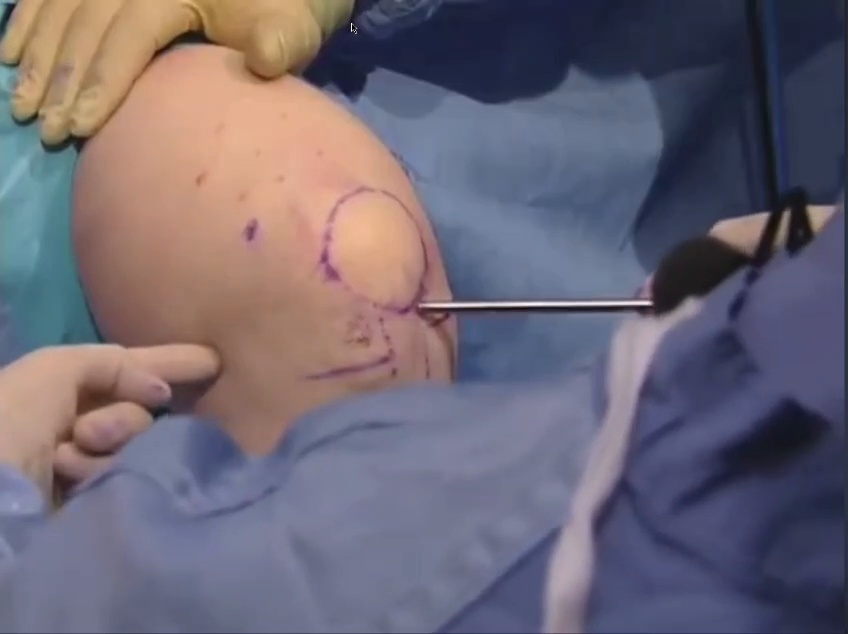arthroscope: (424, 82, 776, 634), (25, 288, 402, 508)
probe: (799, 194, 848, 412), (306, 181, 367, 304), (291, 387, 383, 456), (701, 204, 777, 261)
